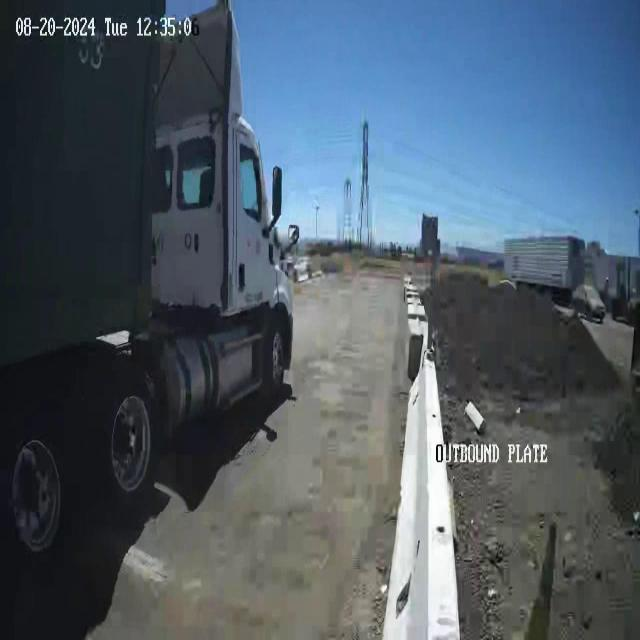CONTAINER: (0, 8, 168, 364)
